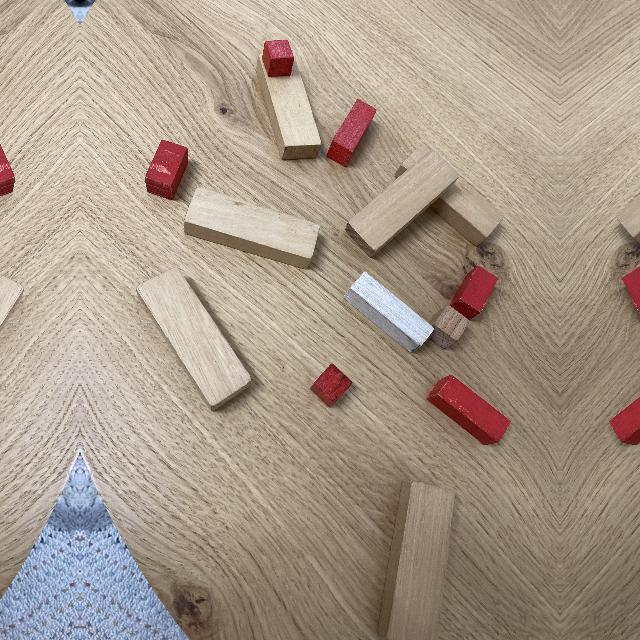block: (345, 273, 437, 355)
cube: (430, 307, 469, 349)
jenga: (136, 271, 252, 411), (345, 151, 460, 258), (379, 483, 455, 640), (184, 186, 320, 270), (255, 53, 322, 160)
red block: (426, 375, 511, 445), (326, 99, 376, 168), (449, 266, 499, 321), (144, 141, 189, 201), (312, 365, 353, 409), (609, 396, 640, 445), (263, 40, 294, 77), (0, 142, 16, 199), (621, 267, 640, 313)
